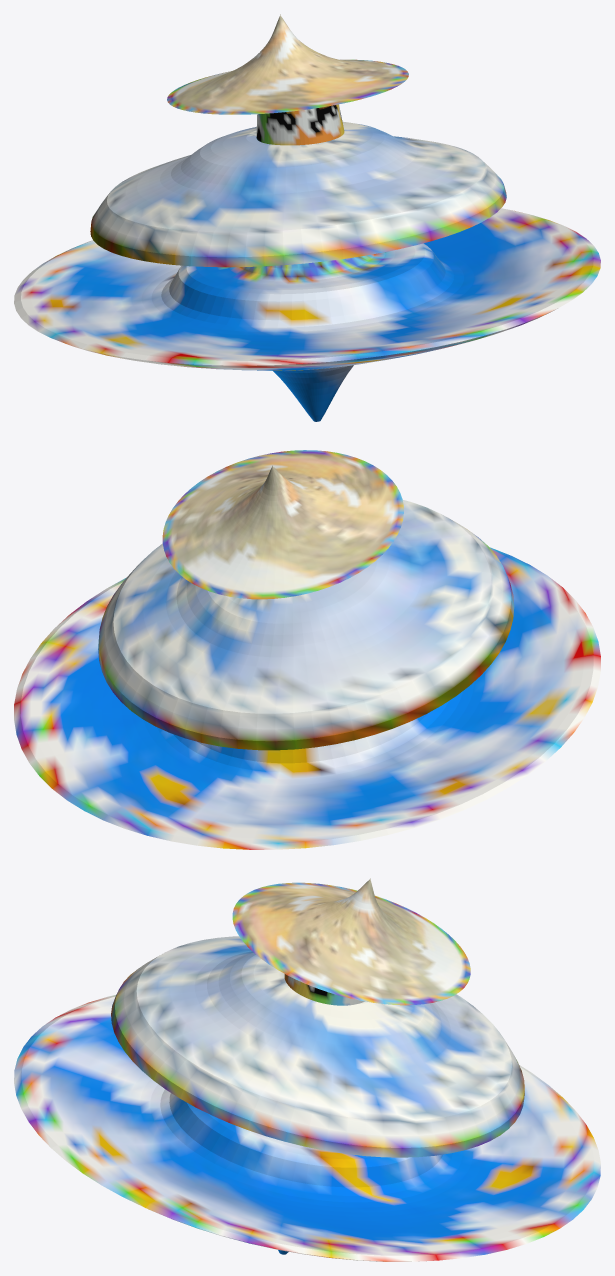
File: april24pagodatilted.glb
The picture shows the model from 3 angles, top to bottom: view 1: azimuth 30°, elevation 25°; view 2: azimuth 150°, elevation 25°; view 3: azimuth 270°, elevation 25°; orthographic projection.
Visible parts, largest first — view 1: Lathe 4, Lathe 3, Lathe, Lathe.001; view 2: Lathe 4, Lathe 3, Lathe; view 3: Lathe 4, Lathe 3, Lathe, Lathe.001.
Part boxes in pixels (<box>): Lathe 4: <box>14,208,600,421</box>; Lathe 3: <box>90,121,506,267</box>; Lathe: <box>167,14,408,114</box>; Lathe.001: <box>256,104,344,145</box>; Lathe 4: <box>14,547,600,849</box>; Lathe 3: <box>98,500,514,750</box>; Lathe: <box>162,450,403,599</box>; Lathe 4: <box>14,995,600,1261</box>; Lathe 3: <box>111,936,524,1157</box>; Lathe: <box>232,878,470,1005</box>; Lathe.001: <box>284,974,364,1005</box>.
Bounding box in the file's own units: 3.74 × 2.62 × 3.69.
